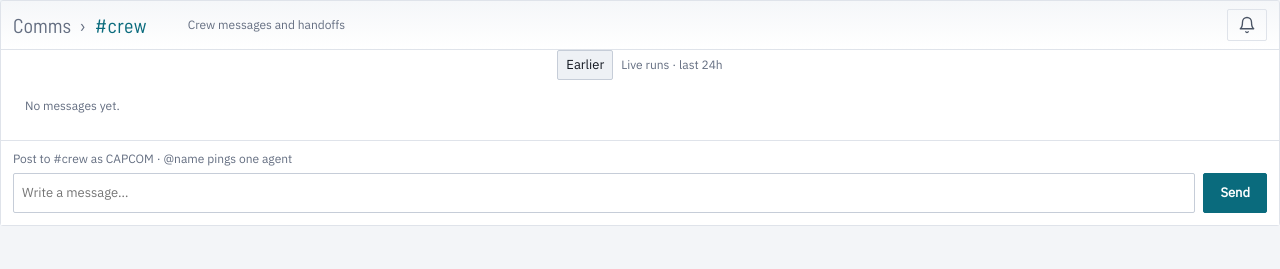
current crew and Earlier › loads Earlier from an empty current view and returns to current crew
Expected: the text "No messages yet." is shown, x1=25 y1=98 x2=120 y2=113
Click the button "Earlier" at (585, 65), box x1=557 y1=50 x2=613 y2=80
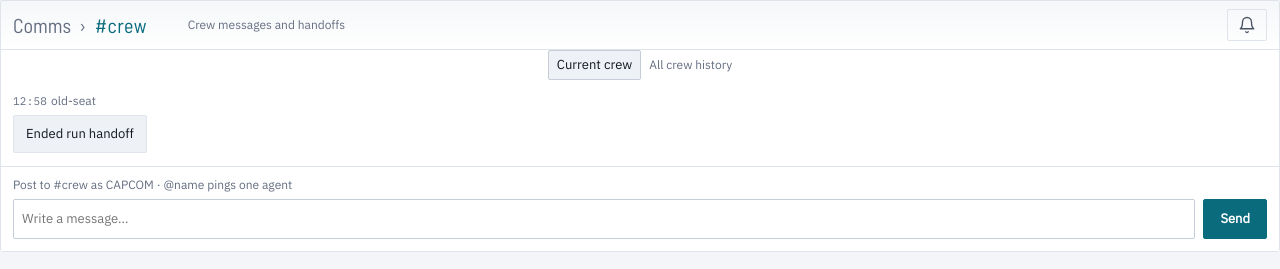
Now the text "Ended run handoff" is shown, box x1=13 y1=115 x2=147 y2=153
Click the button "Current crew" at (594, 65), box x1=548 y1=50 x2=641 y2=80
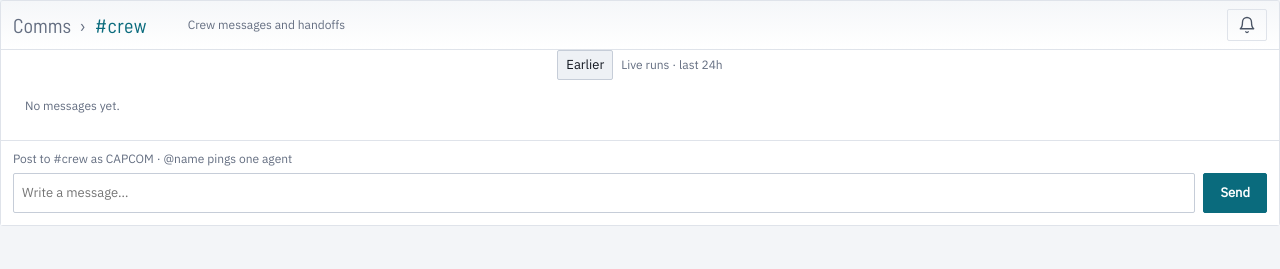
Now the text "Ended run handoff" is gone
